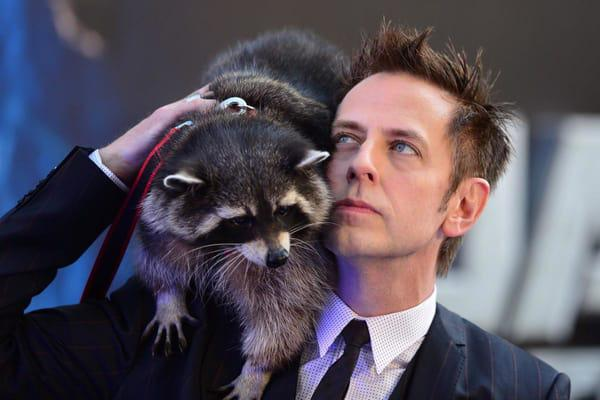raccoon: (118, 20, 367, 398)
